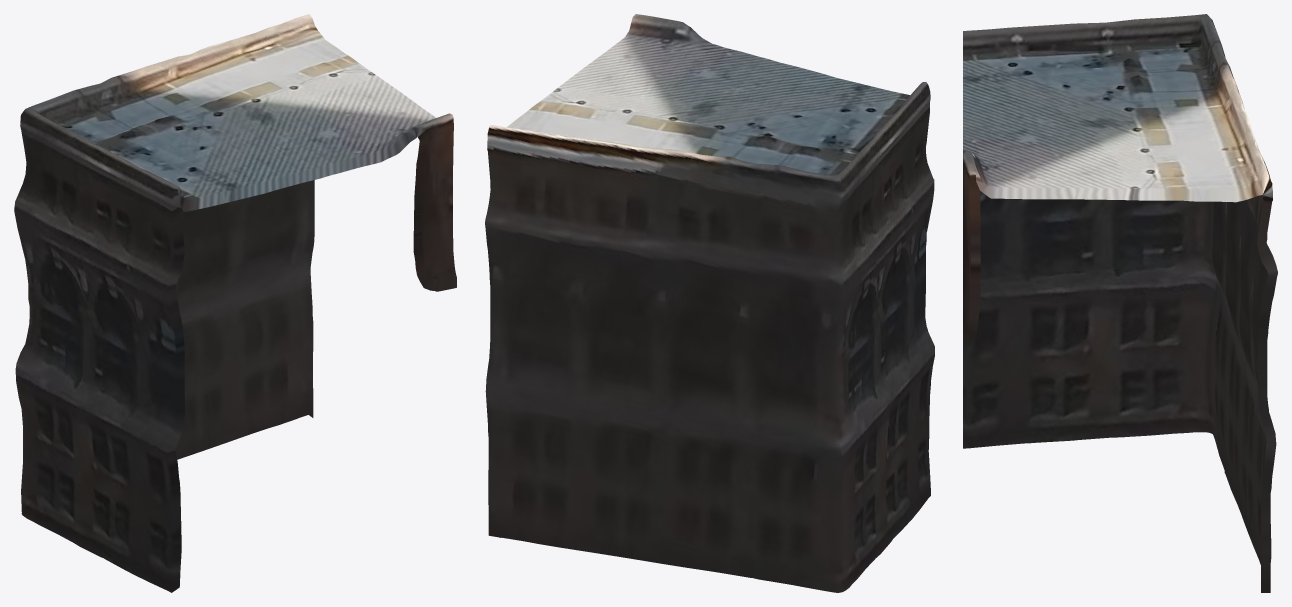
The model's file is z20-167773-405235-h1-yup-uvflip-v3-world.glb.
3 renders of one model, left to right at view 1: azimuth 30°, elevation 25°; view 2: azimuth 150°, elevation 25°; view 3: azimuth 270°, elevation 25°, orthographic. The views are drawn at different scales.
Size of the model in its own units: 19.12 by 23.08 by 15.6.
1 material, 1 textured.
